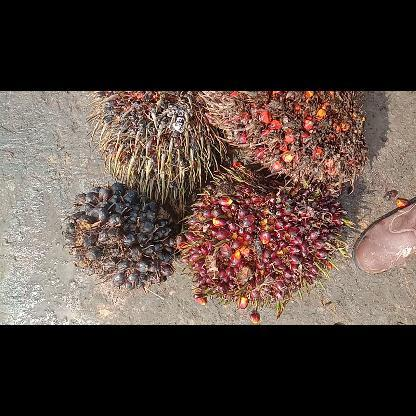TBS abnormal: (87, 90, 231, 209)
TBS masak: (176, 166, 348, 310)
TBS mentah: (66, 182, 180, 288)
Terlalu masak: (198, 90, 368, 200)
